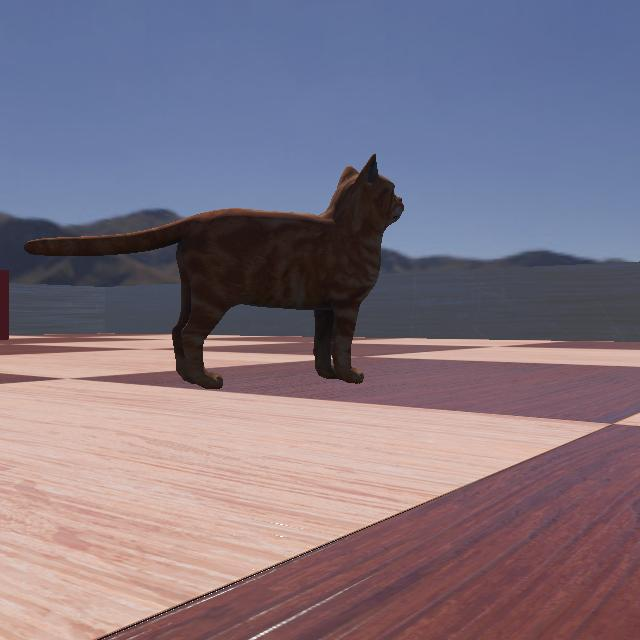cat: (17, 122, 429, 394)
